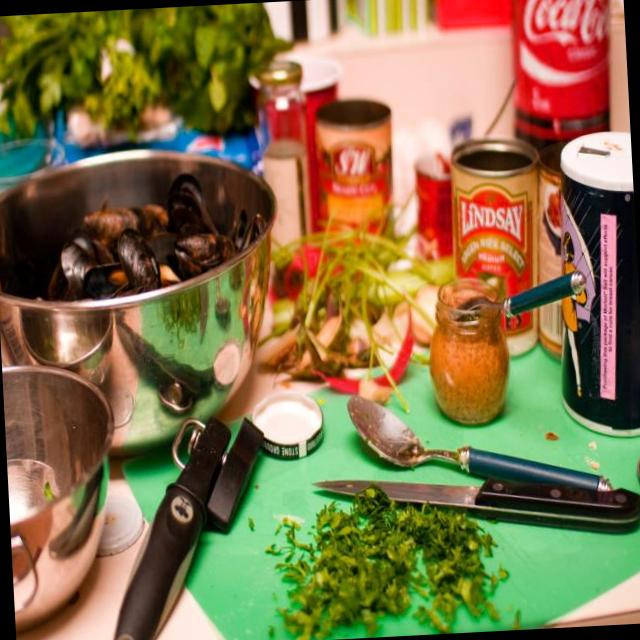Axe: (314, 479, 640, 533)
